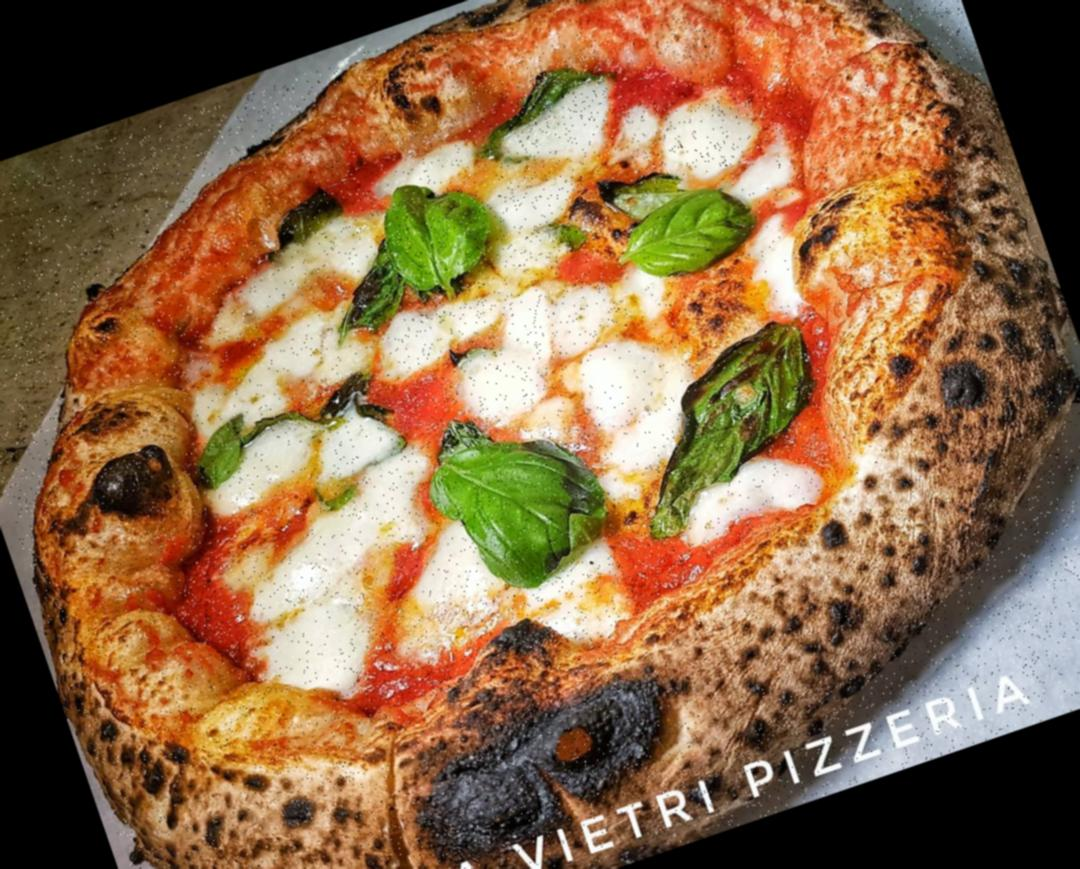Basil: (595, 309, 850, 511), (406, 404, 609, 600), (591, 171, 754, 298), (356, 168, 490, 294), (485, 49, 616, 154), (190, 407, 276, 479)
Cheese: (228, 464, 473, 698), (446, 274, 631, 417), (196, 294, 386, 428), (206, 389, 406, 508), (718, 145, 845, 310), (564, 326, 704, 475), (624, 76, 764, 192), (232, 220, 386, 317), (676, 448, 832, 542), (379, 278, 501, 368), (486, 167, 590, 272), (368, 135, 480, 210)
Pizza: (0, 0, 1080, 869)
